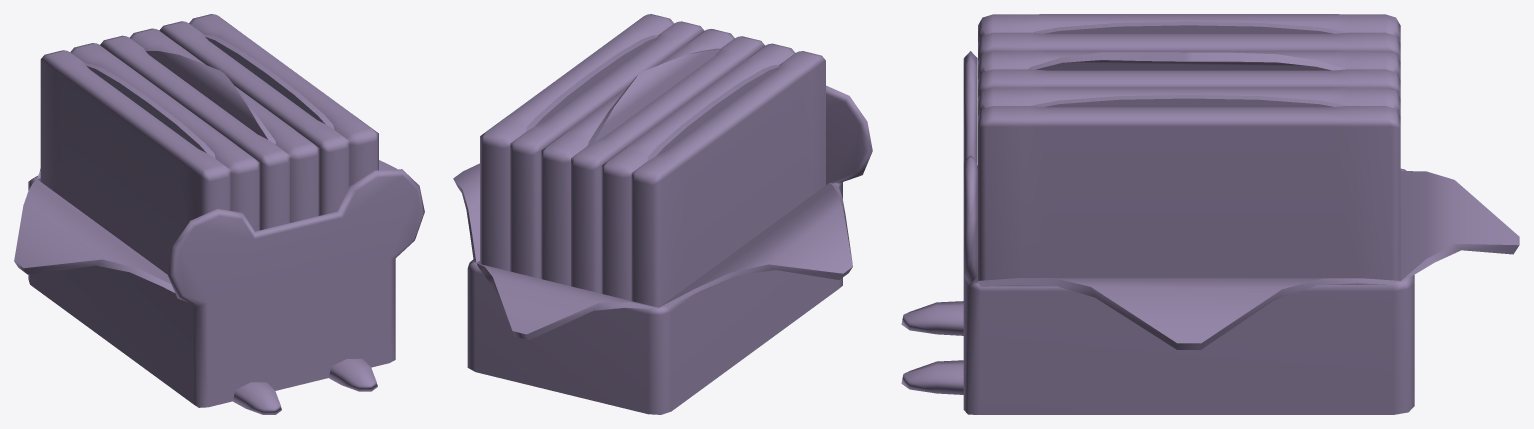
The model's file is PROPS_GOODS_SANDWICH_HB_MODEL.fbx.
3 renders of one model, left to right at view 1: azimuth 30°, elevation 25°; view 2: azimuth 150°, elevation 25°; view 3: azimuth 270°, elevation 25°, orthographic. The views are drawn at different scales.
Parts seen in each view (by area): view 1: PROPS_GOODS_SANDWICH_HB_MODEL; view 2: PROPS_GOODS_SANDWICH_HB_MODEL; view 3: PROPS_GOODS_SANDWICH_HB_MODEL.
Boxes of the visible parts, <box> form: PROPS_GOODS_SANDWICH_HB_MODEL: <box>14,14,424,414</box>; PROPS_GOODS_SANDWICH_HB_MODEL: <box>453,14,872,414</box>; PROPS_GOODS_SANDWICH_HB_MODEL: <box>901,14,1519,414</box>.
Size of the model in its own units: 17.43 by 10.67 by 19.33.
